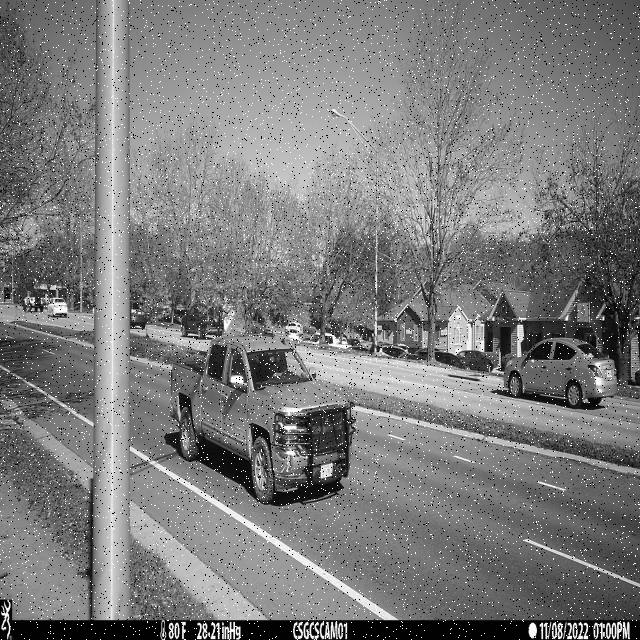Pickup: (170, 333, 358, 505)
